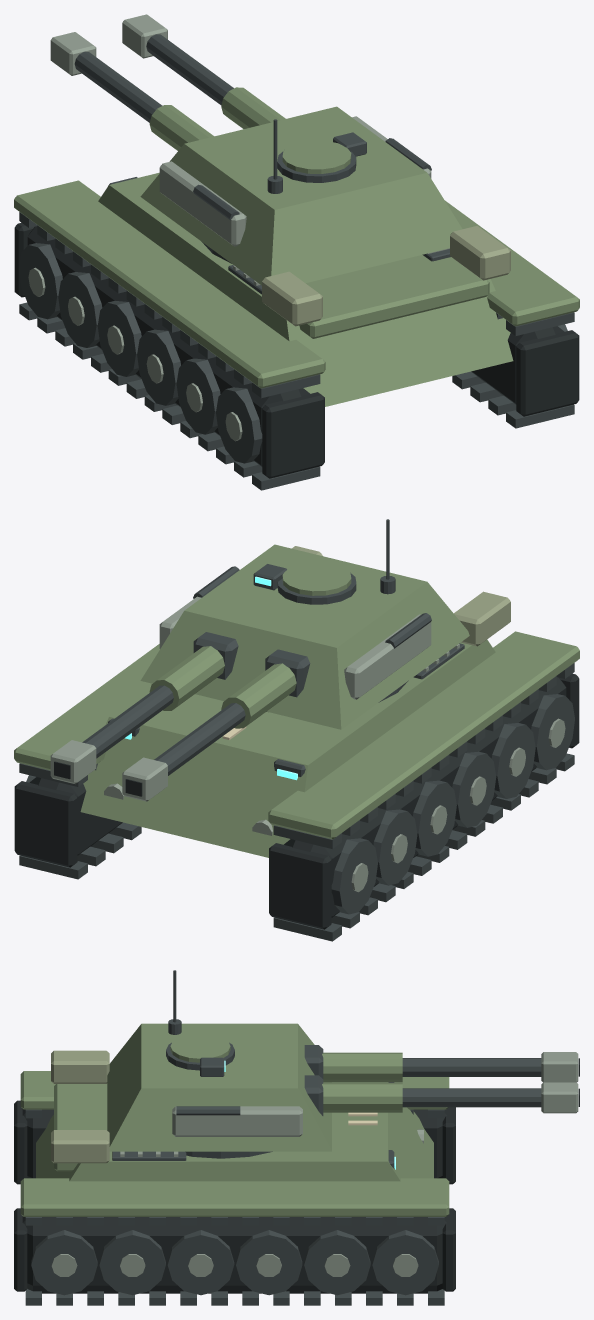
Rendered from tank_twin_premium.glb.
The picture shows the model from 3 angles, top to bottom: view 1: azimuth 30°, elevation 25°; view 2: azimuth 150°, elevation 25°; view 3: azimuth 270°, elevation 25°; orthographic projection. The views are drawn at different scales.
Visible parts, largest first — view 1: tank_twin_mk2_TankPaint.007, tank_twin_mk2_TankPaint.008, tank_twin_mk2_RunningGear.007, tank_twin_mk2_TankTracks.007, tank_twin_mk2_RunningGear.008, tank_twin_mk2_ArmorEdges.008, tank_twin_mk2_Canvas.001, tank_twin_mk2_ArmorEdges.007; view 2: tank_twin_mk2_TankPaint.007, tank_twin_mk2_TankPaint.008, tank_twin_mk2_RunningGear.007, tank_twin_mk2_TankTracks.007, tank_twin_mk2_RunningGear.008, tank_twin_mk2_ArmorEdges.008, tank_twin_mk2_ArmorEdges.007, tank_twin_mk2_Canvas.001; view 3: tank_twin_mk2_TankPaint.007, tank_twin_mk2_TankPaint.008, tank_twin_mk2_RunningGear.007, tank_twin_mk2_TankTracks.007, tank_twin_mk2_RunningGear.008, tank_twin_mk2_ArmorEdges.008, tank_twin_mk2_Canvas.001, tank_twin_mk2_ArmorEdges.007.
Part boxes in pixels (box(x1,y1,x2,y2)): tank_twin_mk2_TankPaint.007: box(14, 172, 579, 406); tank_twin_mk2_TankPaint.008: box(140, 87, 462, 285); tank_twin_mk2_RunningGear.007: box(19, 177, 574, 490); tank_twin_mk2_TankTracks.007: box(14, 222, 579, 478); tank_twin_mk2_RunningGear.008: box(74, 34, 431, 263); tank_twin_mk2_ArmorEdges.008: box(50, 14, 431, 246); tank_twin_mk2_Canvas.001: box(262, 226, 510, 326); tank_twin_mk2_ArmorEdges.007: box(28, 248, 449, 441); tank_twin_mk2_TankPaint.007: box(14, 631, 579, 857); tank_twin_mk2_TankPaint.008: box(140, 544, 469, 729); tank_twin_mk2_RunningGear.007: box(19, 643, 574, 941); tank_twin_mk2_TankTracks.007: box(14, 673, 579, 929); tank_twin_mk2_RunningGear.008: box(82, 519, 431, 775); tank_twin_mk2_ArmorEdges.008: box(50, 596, 431, 801); tank_twin_mk2_ArmorEdges.007: box(104, 644, 565, 892); tank_twin_mk2_Canvas.001: box(292, 546, 510, 646); tank_twin_mk2_TankPaint.007: box(20, 1071, 449, 1216); tank_twin_mk2_TankPaint.008: box(107, 1023, 402, 1151); tank_twin_mk2_RunningGear.007: box(25, 1082, 444, 1305); tank_twin_mk2_TankTracks.007: box(14, 1100, 455, 1293); tank_twin_mk2_RunningGear.008: box(166, 970, 541, 1158); tank_twin_mk2_ArmorEdges.008: box(172, 1052, 578, 1136); tank_twin_mk2_Canvas.001: box(51, 1050, 109, 1163); tank_twin_mk2_ArmorEdges.007: box(51, 1129, 423, 1276).
Bounding box in the file's own units: 2.54 × 2.11 × 4.43.
